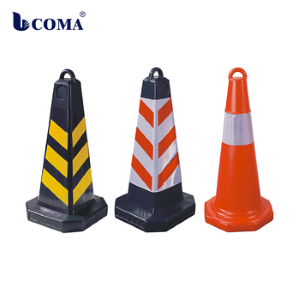traffic cone: (205, 67, 274, 232)
